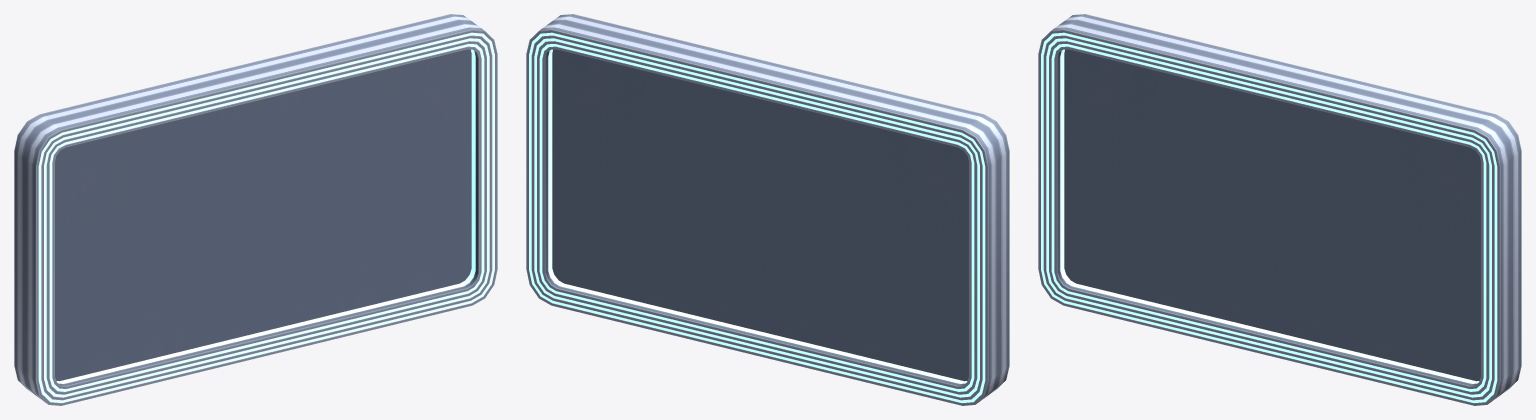
The model's file is obj_governance01.gltf.
3 renders of one model, left to right at view 1: azimuth 30°, elevation 25°; view 2: azimuth 150°, elevation 25°; view 3: azimuth 330°, elevation 25°, orthographic.
Parts seen in each view (by area): view 1: obj_governance01; view 2: obj_governance01; view 3: obj_governance01.
Part boxes in pixels (x1=…): obj_governance01: x1=14, y1=14, x2=497, y2=405; obj_governance01: x1=526, y1=14, x2=1009, y2=405; obj_governance01: x1=1038, y1=14, x2=1521, y2=405.
Size of what is drawn, in the model's own units: 2.04 by 1.17 by 0.1666.
2 materials, 1 textured.
